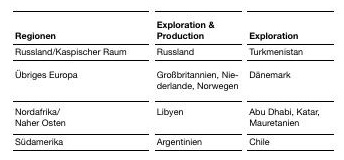table: (0, 0, 344, 160)
